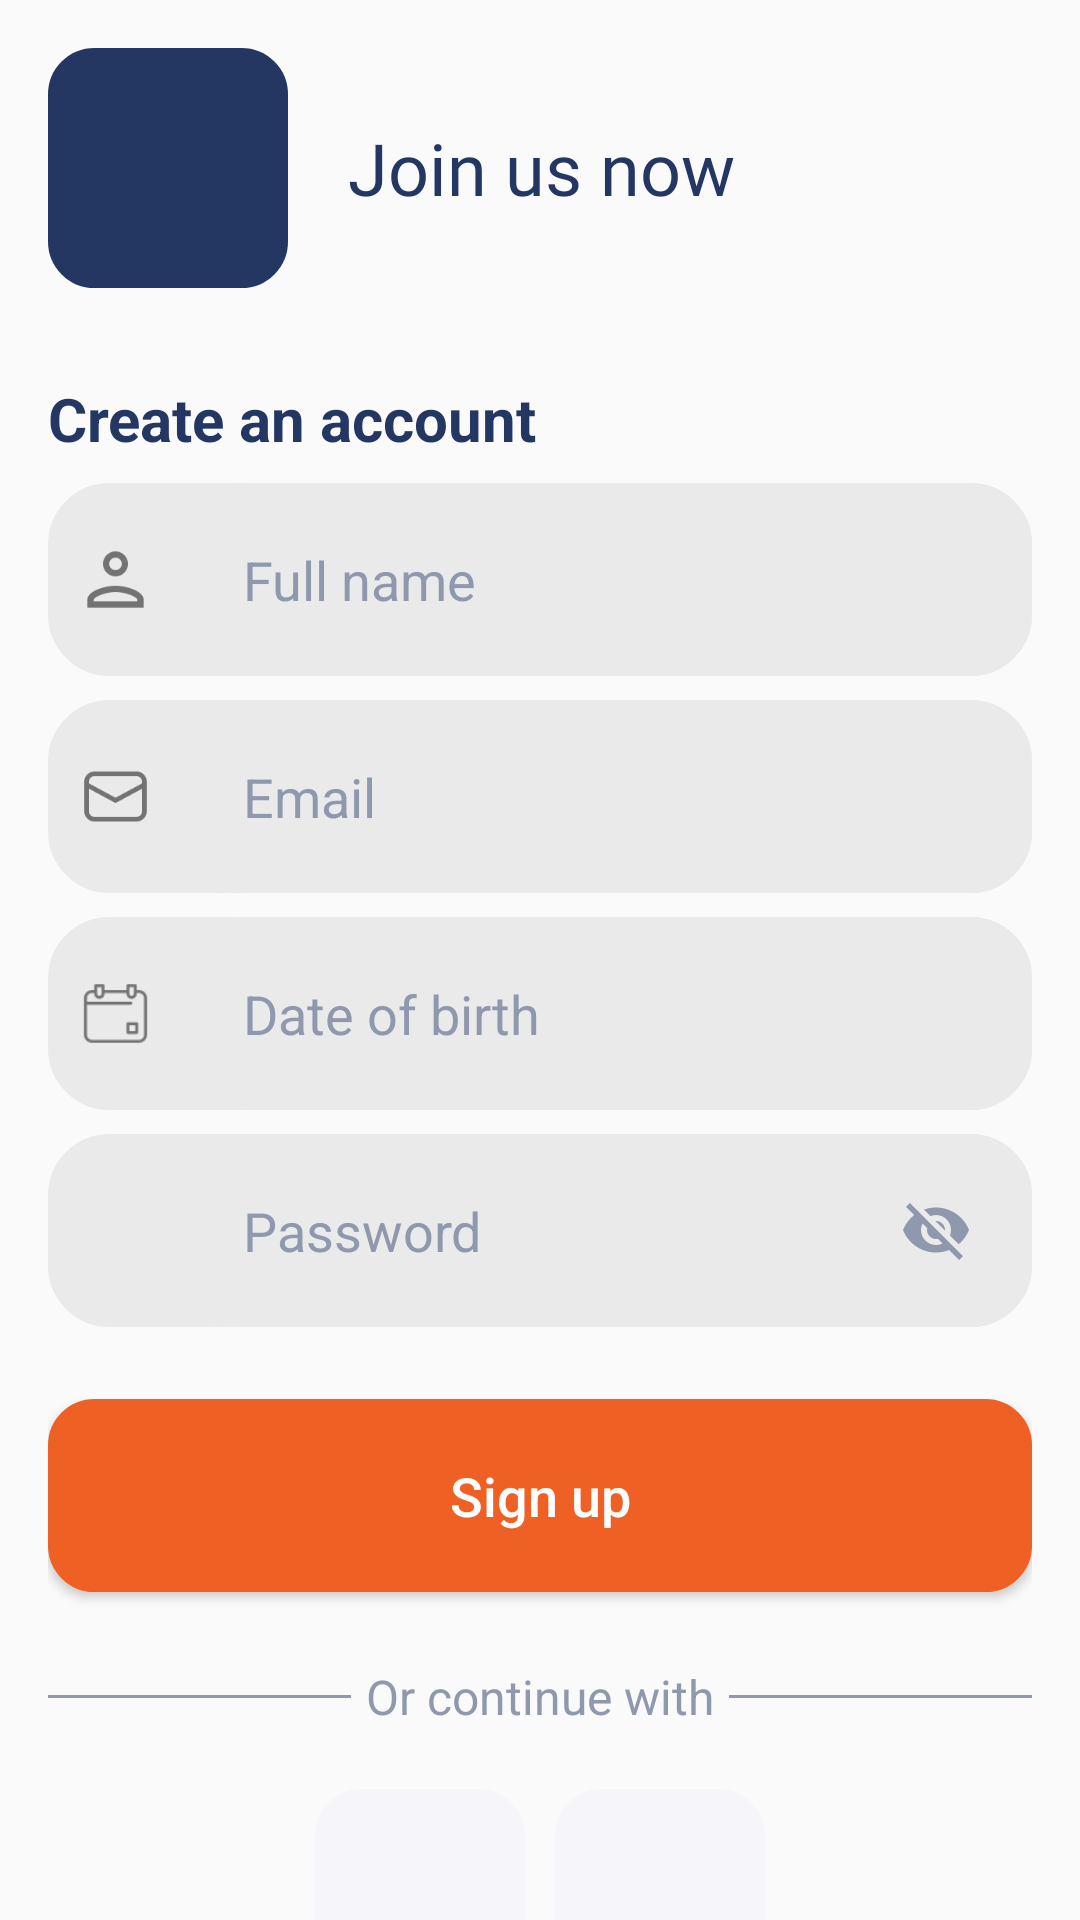

Where icons sit on this 1080 × 1920 app screen, as (x1=x1, y1=y1, x2=x2, y2=y2):
calender: (x1=84, y1=984, x2=147, y2=1043)
profile: (x1=87, y1=551, x2=144, y2=608)
